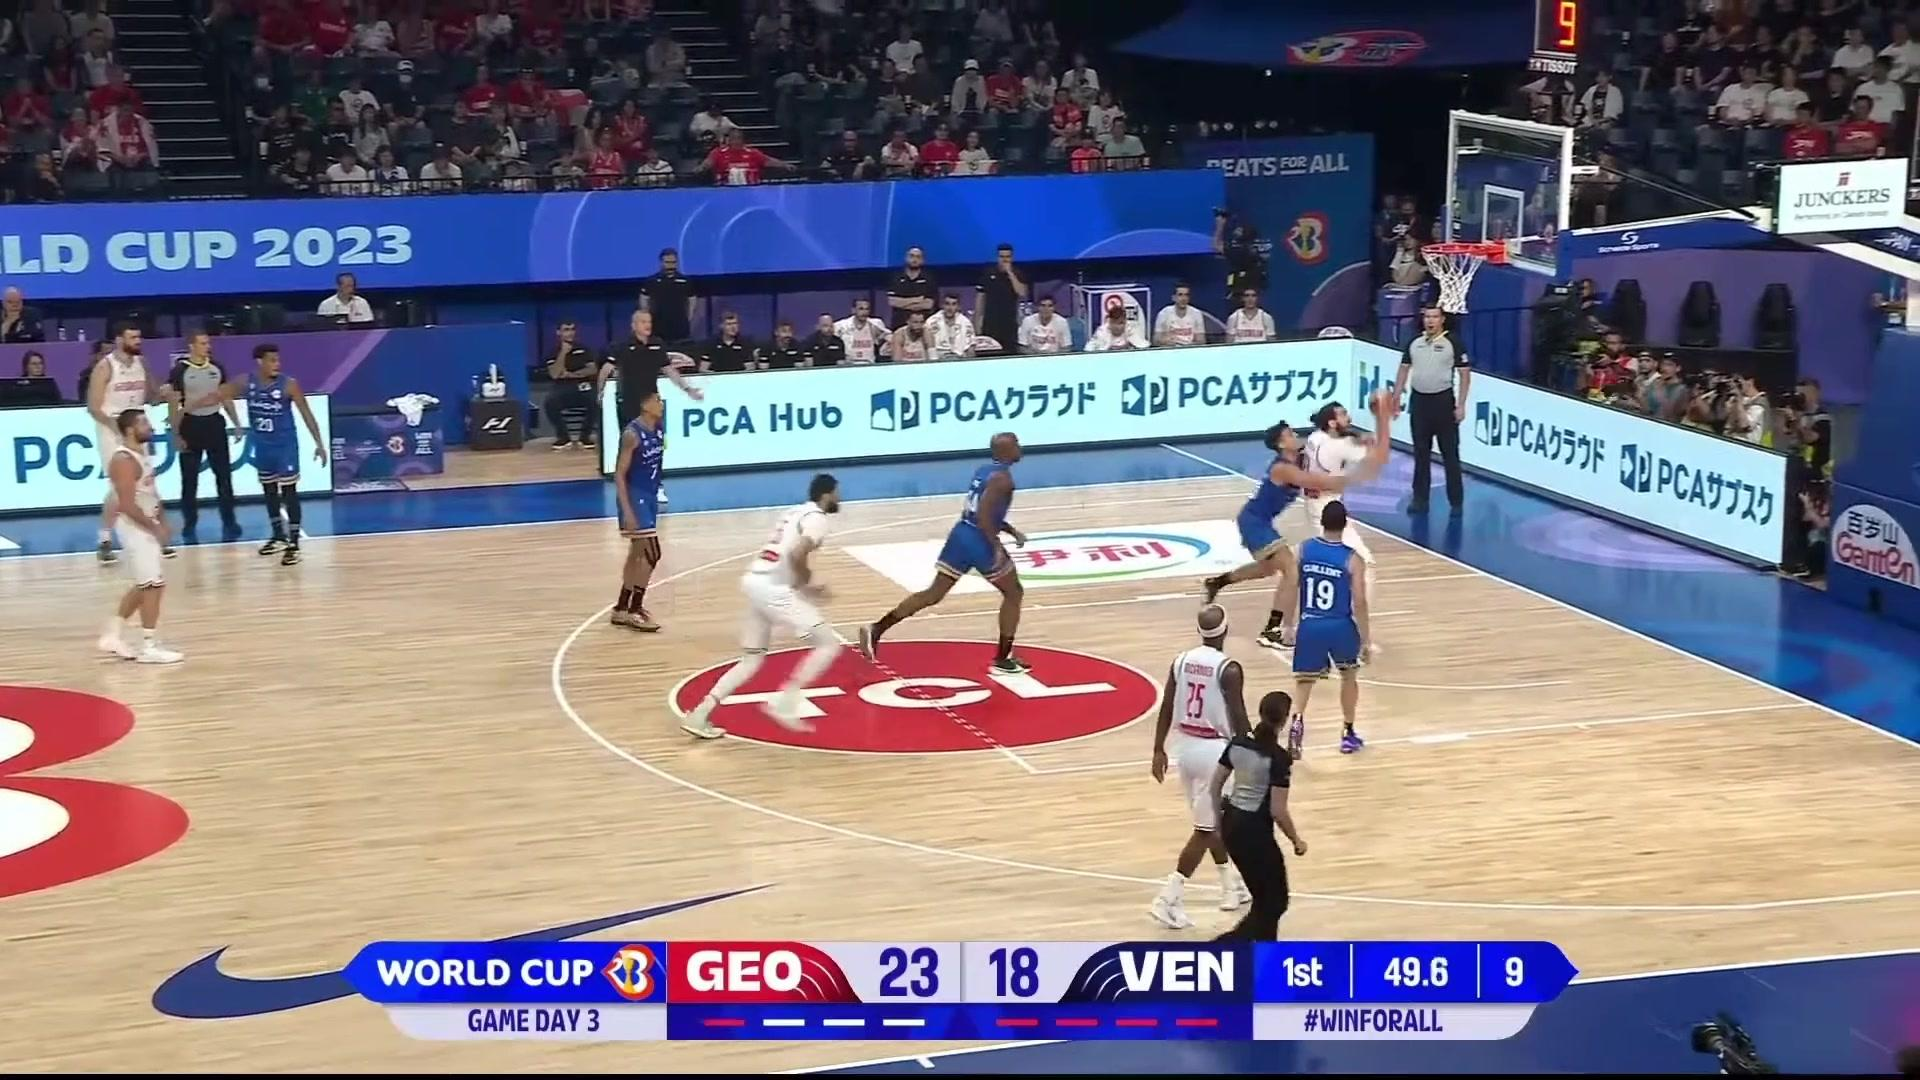foul: (1225, 368, 1406, 617)
